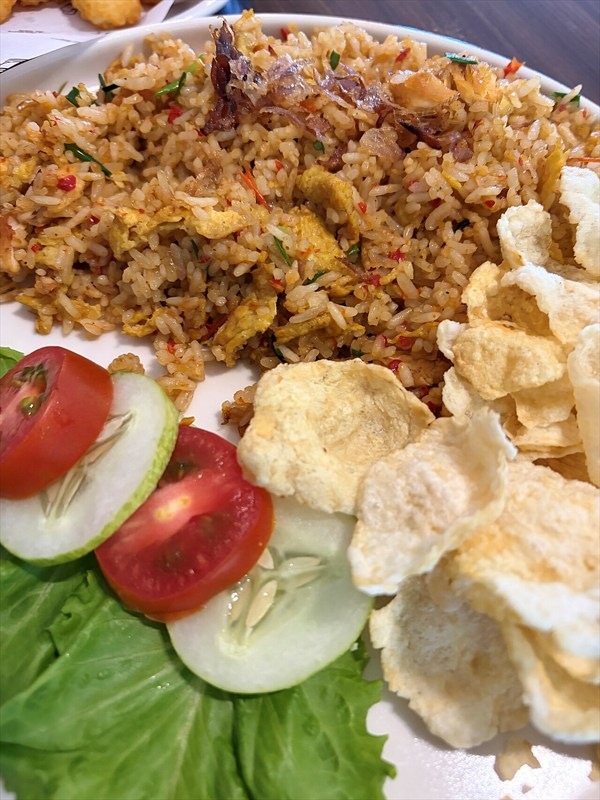Nasi Goreng: (39, 65, 535, 628)
